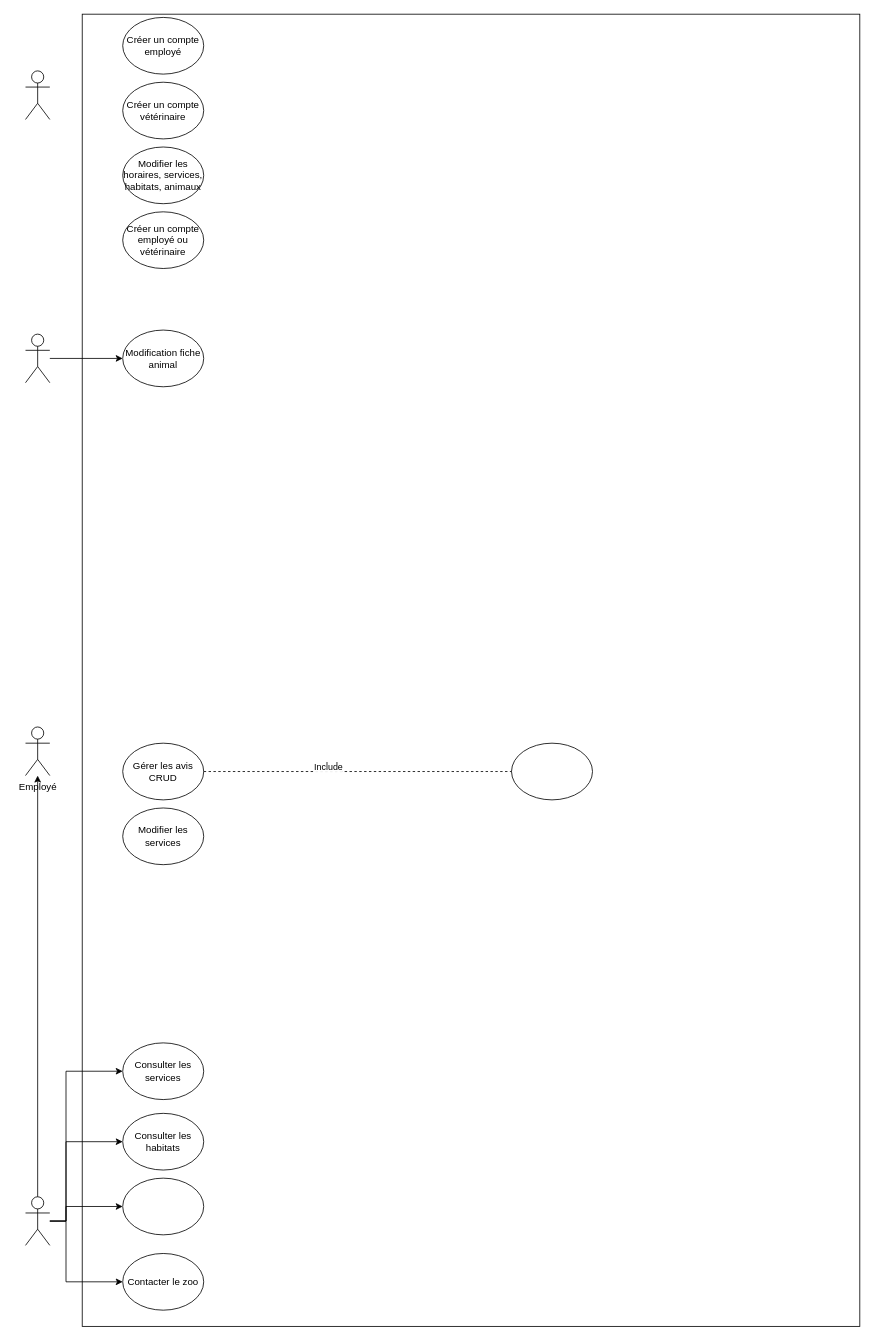
The diagram is 874 pixels wide and 1341 high, and some of its shapes have lost their labels. The shapes that lost their labels are listed below. From the top down, each one's box as (x1, y1, x2, y2) in pixels, then its label:
(25, 70, 50, 119): Admin
(25, 333, 50, 383): Vétérinaire
(511, 742, 593, 800): Se connecter
(25, 1196, 50, 1245): Visiteur
(122, 1177, 204, 1235): Donner un avis
